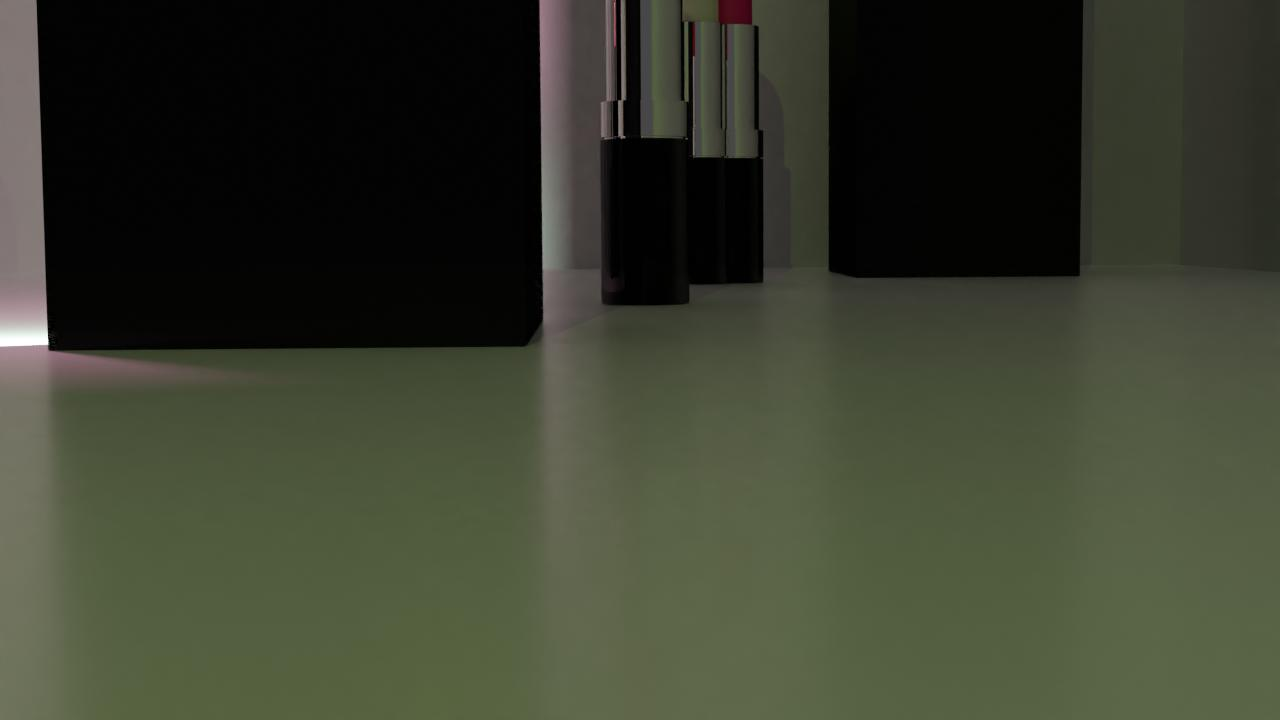CLASSIFIER_NAME: (599, 0, 691, 305), (661, 0, 731, 284), (695, 0, 764, 283)
